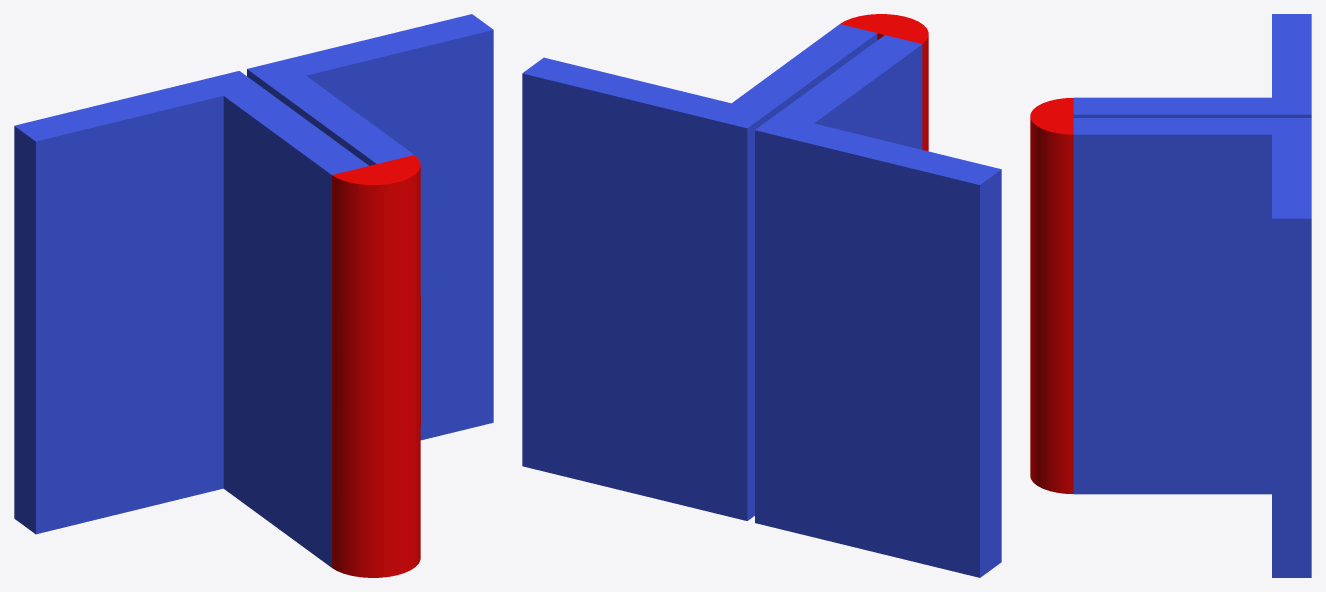
Rendered from edge joint v0.fbx.
3 renders of one model, left to right at view 1: azimuth 30°, elevation 25°; view 2: azimuth 150°, elevation 25°; view 3: azimuth 270°, elevation 25°, orthographic. The views are drawn at different scales.
Visible parts, largest first — view 1: Body3, Body2, Body1; view 2: Body3, Body2, Body1; view 3: Body2, Body1, Body3.
Part boxes in pixels (x1,y1,x2,y2): Body3: [14, 71, 368, 567]; Body2: [247, 14, 493, 440]; Body1: [332, 155, 420, 577]; Body3: [755, 35, 1001, 577]; Body2: [522, 24, 877, 520]; Body1: [840, 14, 928, 151]; Body2: [1073, 118, 1311, 577]; Body1: [1030, 98, 1073, 493]; Body3: [1073, 14, 1311, 117].
Bounding box in the file's own units: 310 × 254 × 180.
